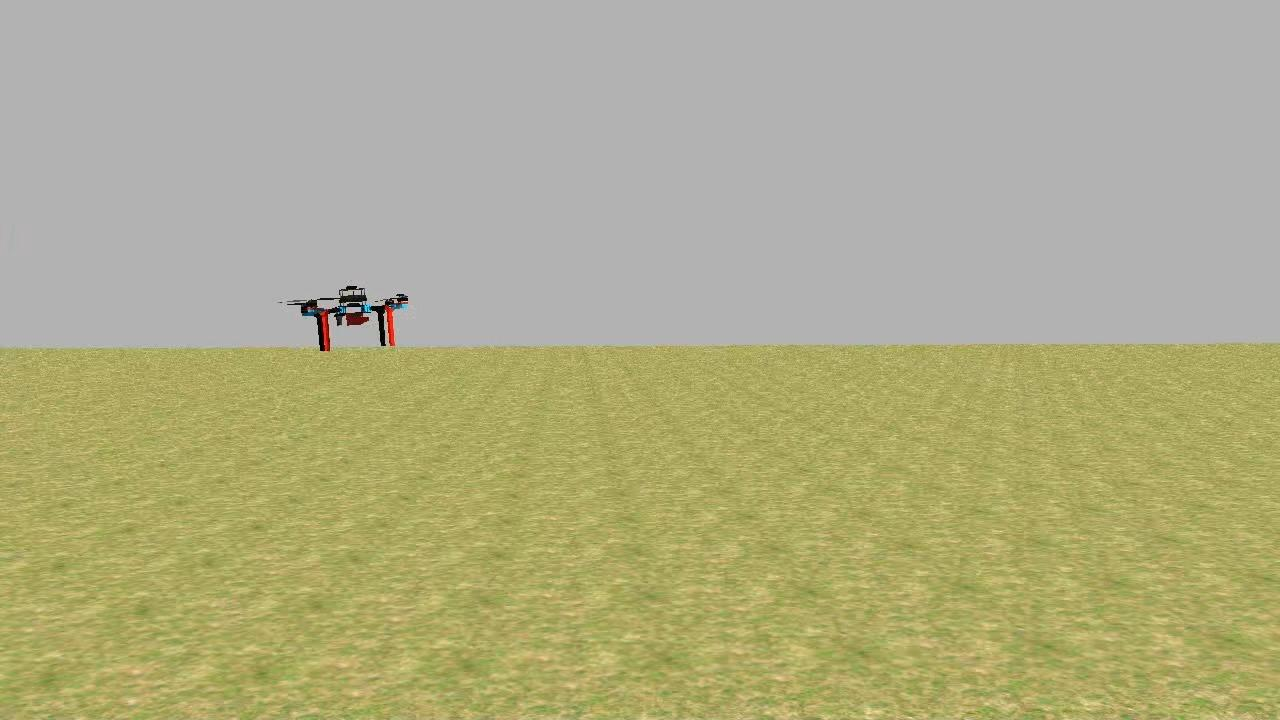UAV: (290, 278, 414, 360)
